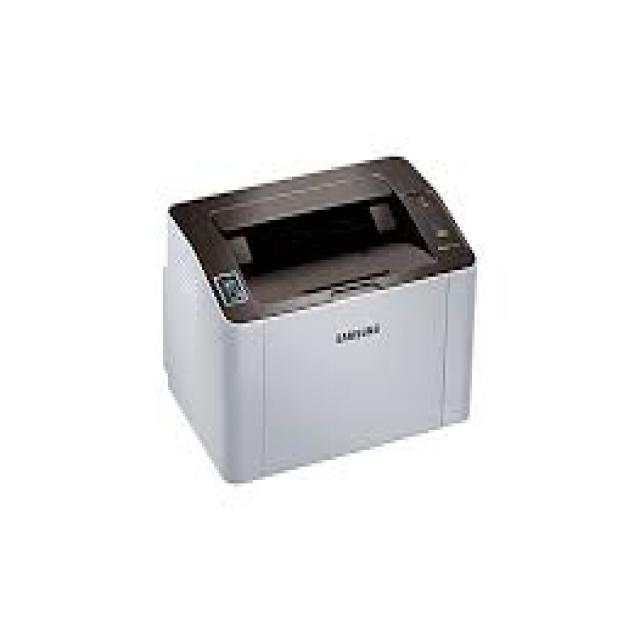printer: (158, 151, 478, 482)
